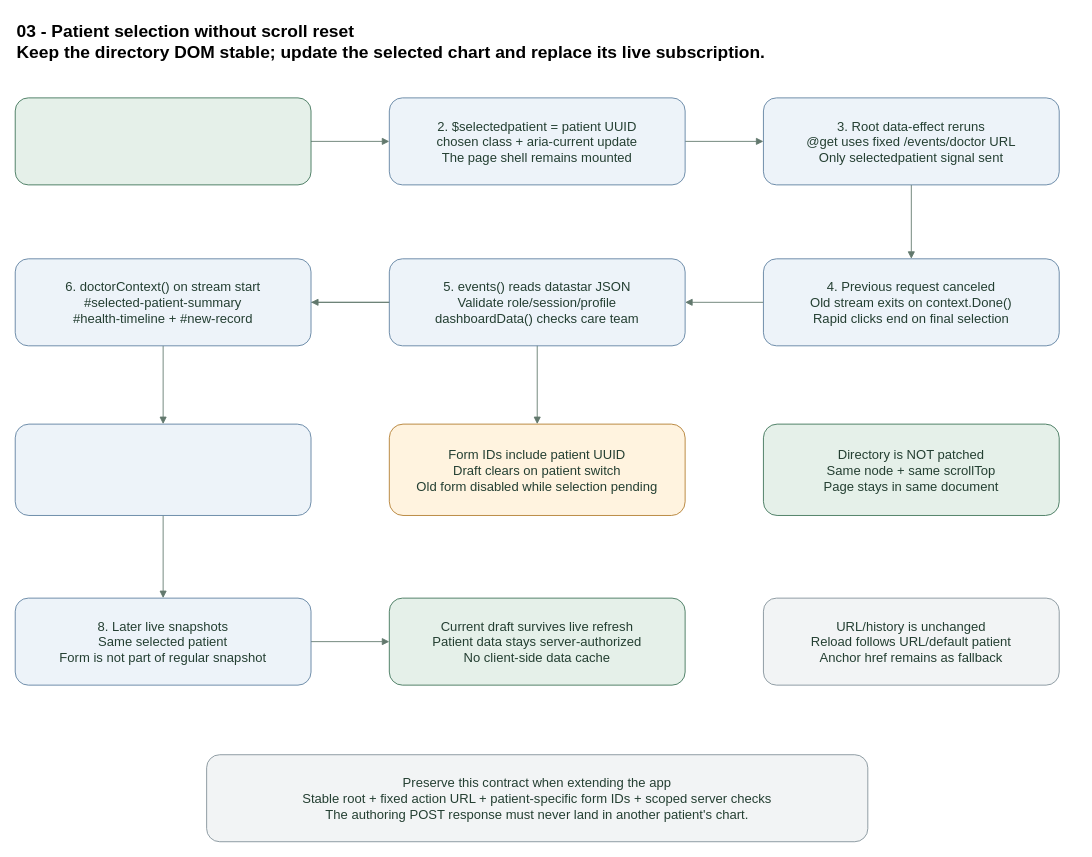
The diagram is 1092 pixels wide and 857 high, and some of its shapes have lost their labels. The shapes that lost their labels are listed below. From the top down, each one's centre as x and y in pixels, then its label:
At point (162, 141): "1. Click patient anchor data-on:click__prevent Skip selection while saving note".
At point (162, 469): "7. snapshot() Records + reports + healing AI summary + counts".
